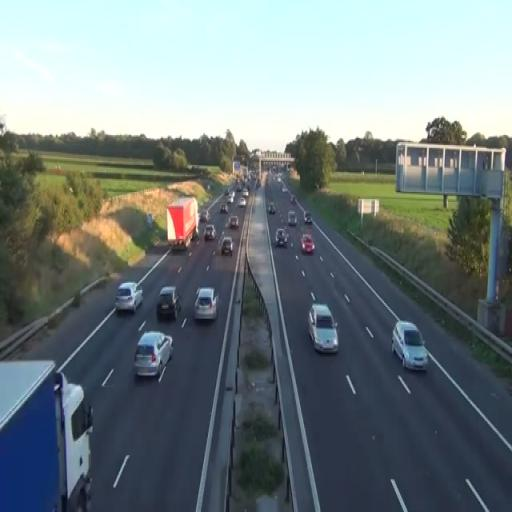Car: (390, 320, 428, 371), (134, 331, 173, 379), (307, 297, 339, 354), (114, 281, 144, 313), (156, 285, 182, 321), (193, 287, 219, 322), (300, 234, 314, 254), (275, 227, 288, 247), (221, 236, 233, 256), (204, 224, 216, 241), (288, 210, 297, 227), (229, 215, 238, 229)
Truck: (0, 360, 94, 508), (166, 197, 200, 251)
